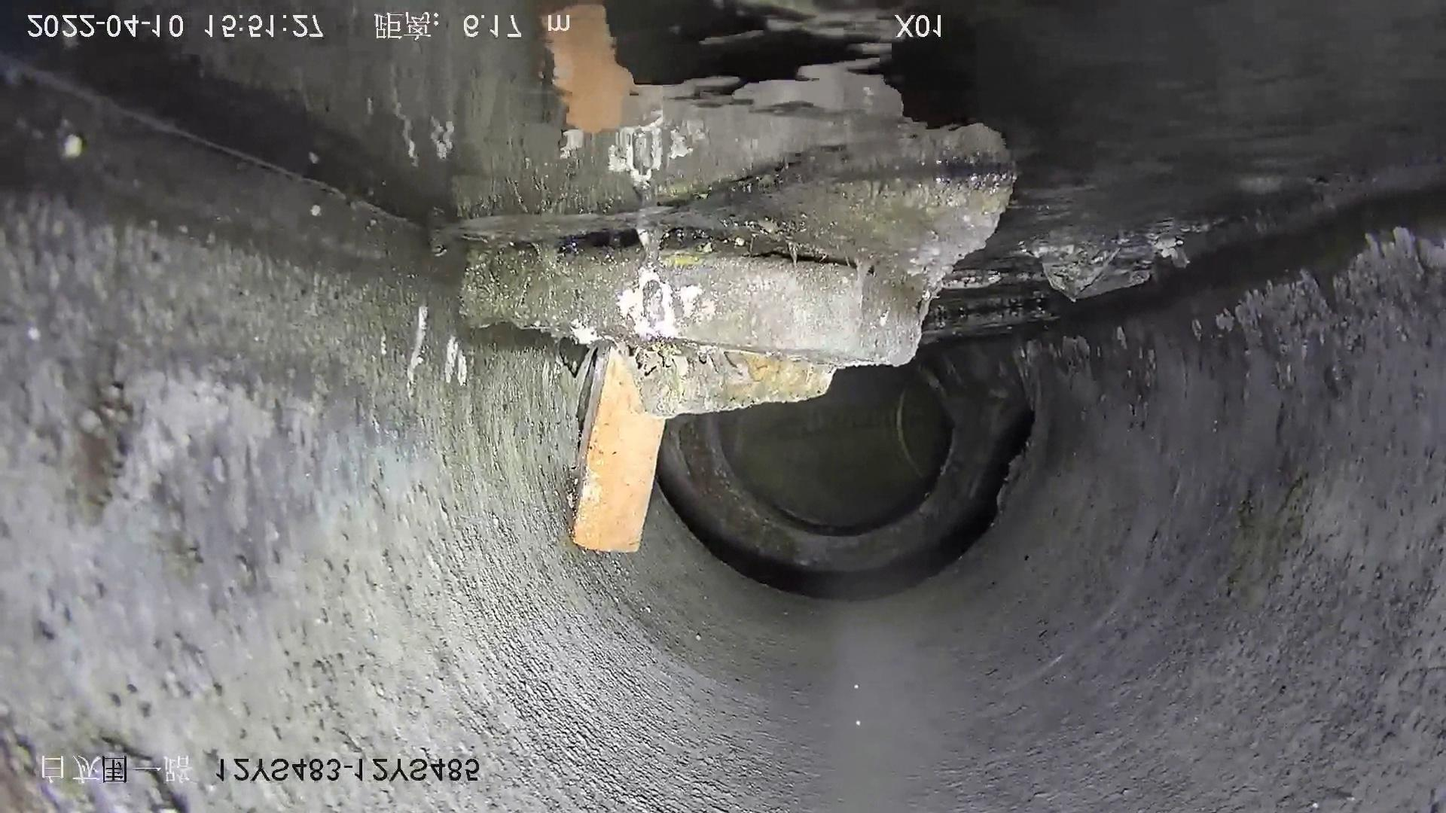ZAW: (459, 171, 1013, 551)
